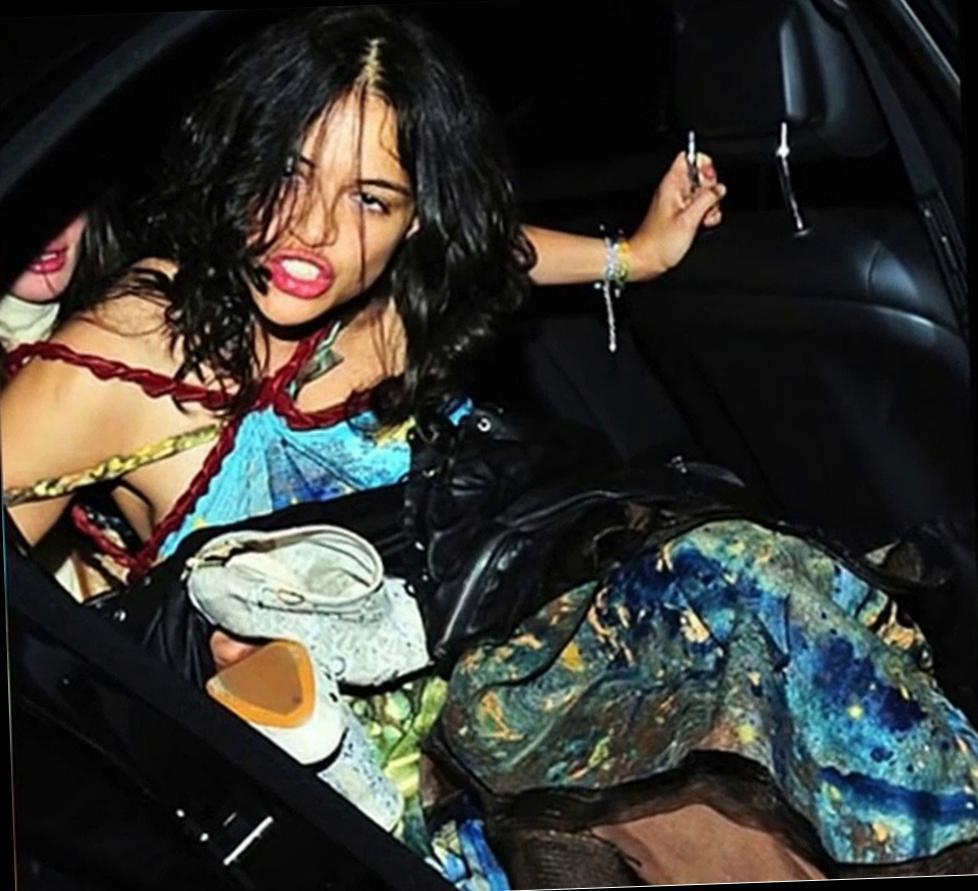Drunk: (251, 100, 407, 319)
